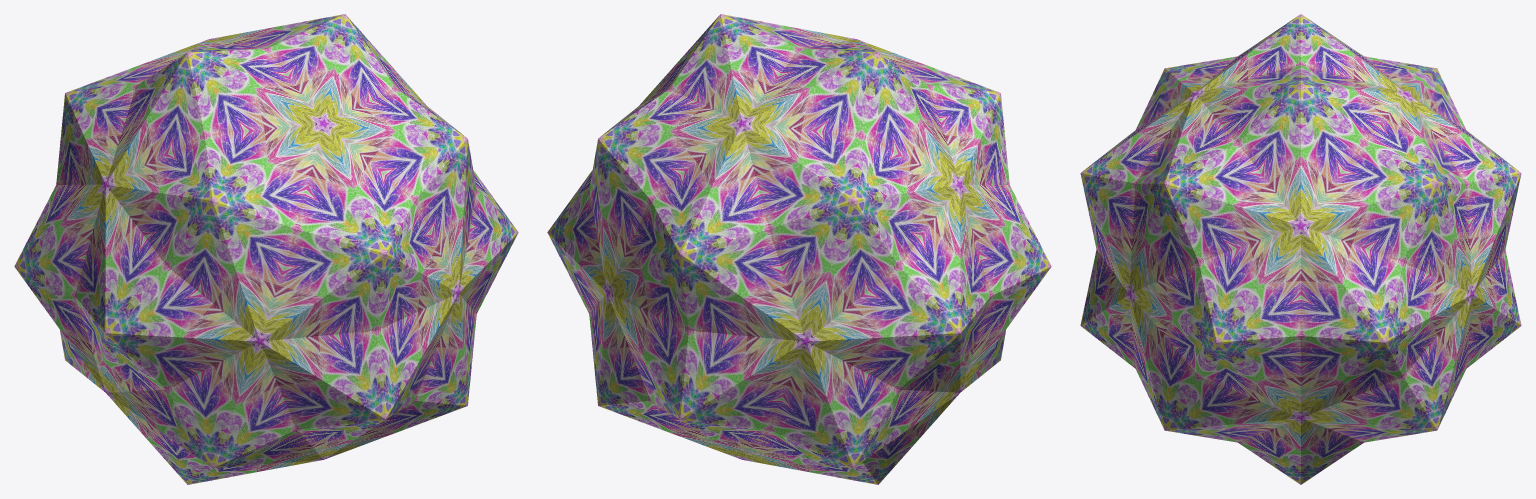
File: SmallIcosacronicHexecontahedron7.obj
3 renders of one model, left to right at view 1: azimuth 30°, elevation 25°; view 2: azimuth 150°, elevation 25°; view 3: azimuth 270°, elevation 25°, orthographic. The views are drawn at different scales.
Size of the model in its own units: 3.62 by 3.62 by 3.62.
1 material, 1 textured.
